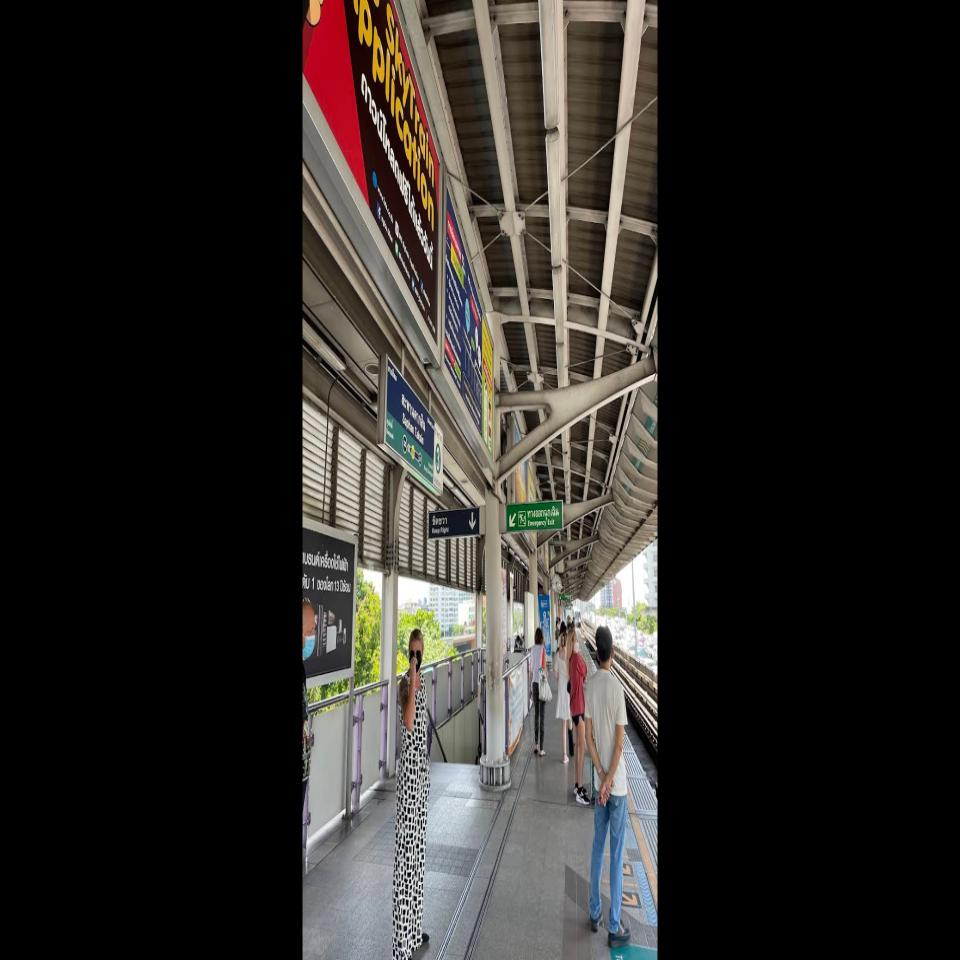Saphan Taksin: (402, 373, 426, 480)
